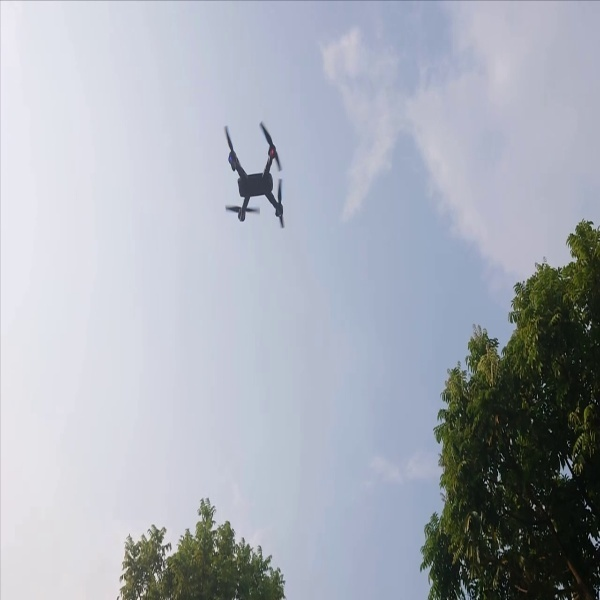drone: (215, 115, 296, 238)
